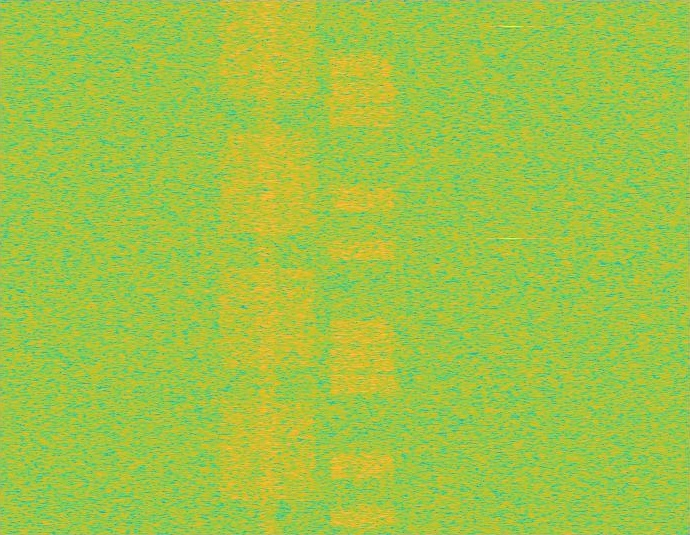5G: (216, 0, 320, 534)
DSSS: (256, 0, 280, 534)
LTE: (328, 0, 397, 534)
Radar: (505, 0, 518, 534)
